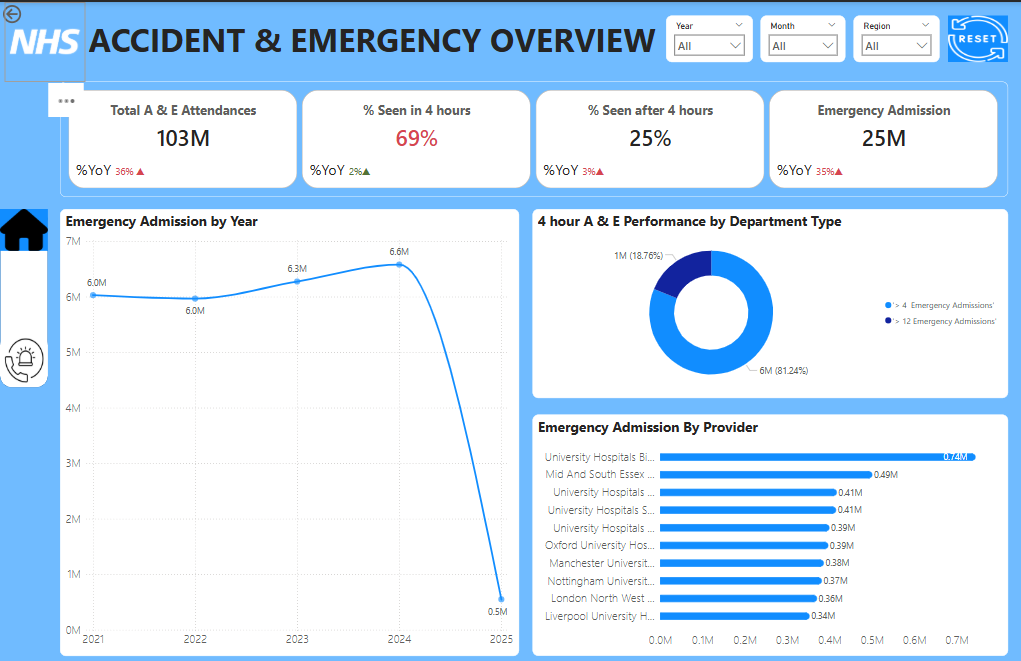

What the dashboard file says about the page in this screenshot:
{"tool":"powerbi","page":{"name":"Emergency","canvas":[1700,1100],"ordinal":1},"visuals":[{"type":"slicer","fields":{"Values":["DateTable.Year"]},"box":[1103.2,22.9,143.8,77.2],"z":0},{"type":"slicer","fields":{"Values":["NHSdata.Region"]},"box":[1415.1,22.9,142.3,77.2],"z":1000},{"type":"slicer","fields":{"Values":["DateTable.Month"]},"box":[1260.7,22.9,140.8,77.2],"z":2000},{"type":"actionButton","box":[0,0,100,40],"z":3000},{"type":"cardVisual","fields":{"Data":["Dax Measures.Total A & E Attendances","Dax Measures.'% Seen in 4 hours'","Dax Measures.% Seen after 4 hours","Emergency  Measures.'Emergency Admissions'"]},"box":[99.4,131.7,1570.5,191.3],"z":4000},{"type":"lineChart","fields":{"Y":["Emergency  Measures.Emergency Admission"],"Category":["DateTable.Year"]},"box":[100.4,343.9,760.5,740.4],"z":5000},{"type":"donutChart","title":"4 hour A & E Performance by Department Type","fields":{"Y":["Emergency  Measures.'> 4  Emergency Admissions'","Emergency  Measures.'> 12 Emergency Admissions'"]},"box":[882.2,342.9,787.7,313.1],"z":6000},{"type":"clusteredBarChart","title":"Emergency Admission By Provider","fields":{"Category":["NHSdata.Provider"],"Y":["Emergency  Measures.Emergency Admission"]},"box":[882.2,683.4,787.7,400.1],"z":7000},{"type":"actionButton","box":[1570.5,22.4,99.4,77],"z":8000},{"type":"shape","box":[0,342.9,79.5,295.7],"z":9000},{"type":"actionButton","box":[0,342.9,79.5,69.6],"z":10000},{"type":"actionButton","box":[0,549.2,79.5,89.5],"z":11000},{"type":"image","box":[7.9,0,134.5,131.9],"z":12000},{"type":"textbox","box":[142.4,21.1,959.9,89.7],"z":13000}]}

Visuals, with their boxes on the page's 1700x1100 design canvas (x1, y1, x2, y2). These are canvas units, not pixel positions in the 1021x661 screenshot, which may show the page scaled, cropped or inside an application window:
slicer - DateTable.Year: rect(1103, 23, 1247, 100)
slicer - NHSdata.Region: rect(1415, 23, 1557, 100)
slicer - DateTable.Month: rect(1261, 23, 1402, 100)
actionButton: rect(0, 0, 100, 40)
cardVisual - Dax Measures.Total A & E Attendances x Dax Measures.'% Seen in 4 hours': rect(99, 132, 1670, 323)
lineChart - Emergency  Measures.Emergency Admission x DateTable.Year: rect(100, 344, 861, 1084)
"4 hour A & E Performance by Department Type" donutChart: rect(882, 343, 1670, 656)
"Emergency Admission By Provider" clusteredBarChart: rect(882, 683, 1670, 1084)
actionButton: rect(1570, 22, 1670, 99)
shape: rect(0, 343, 80, 639)
actionButton: rect(0, 343, 80, 412)
actionButton: rect(0, 549, 80, 639)
image: rect(8, 0, 142, 132)
textbox: rect(142, 21, 1102, 111)
